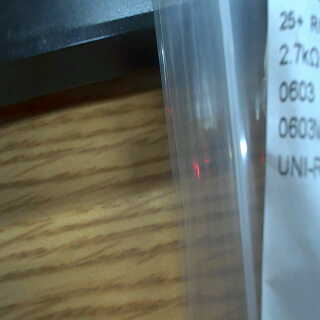2.7kR: (275, 38, 320, 69)
